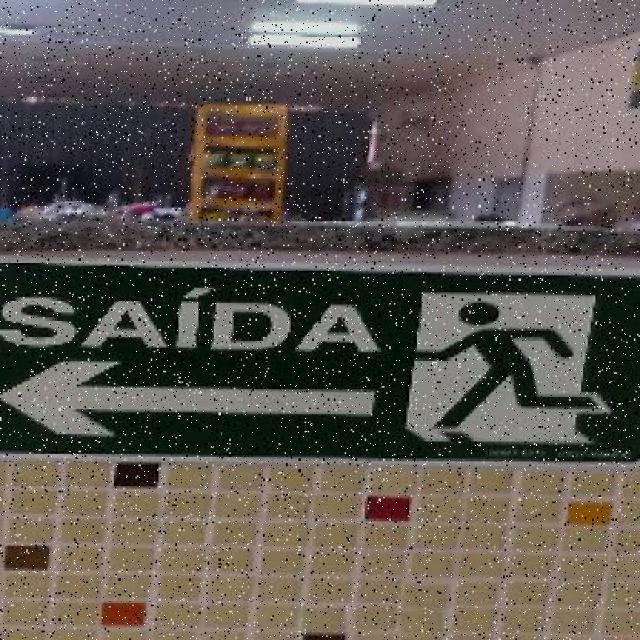emergency_exit: (1, 261, 639, 463), (188, 101, 289, 224)
